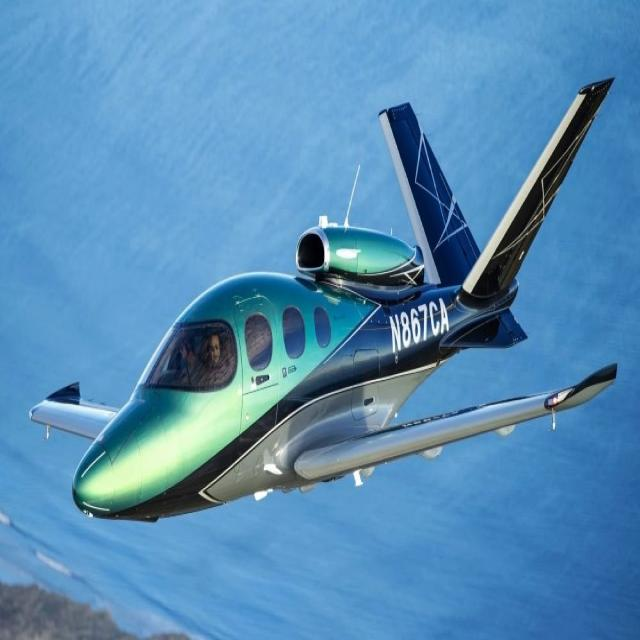jet: (16, 80, 640, 556)
